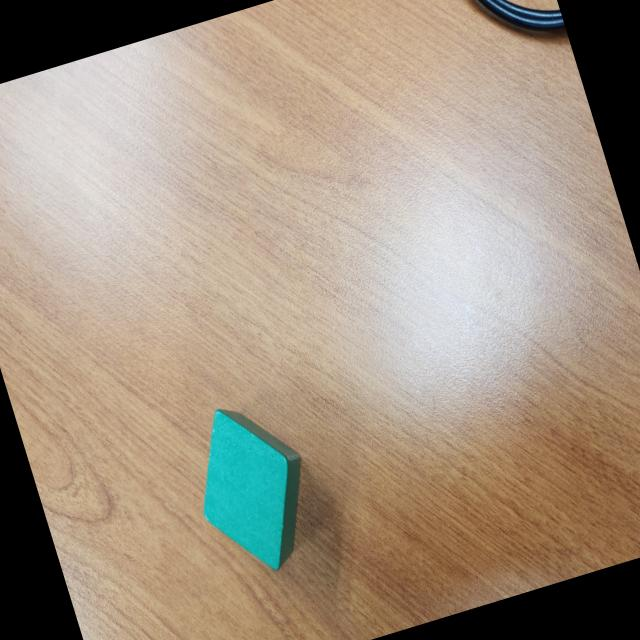green: (175, 388, 331, 585)
